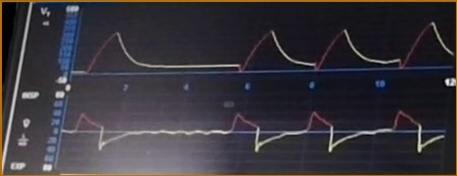Flow: (67, 109, 444, 170)
Leakage Volume: (78, 21, 451, 76)
